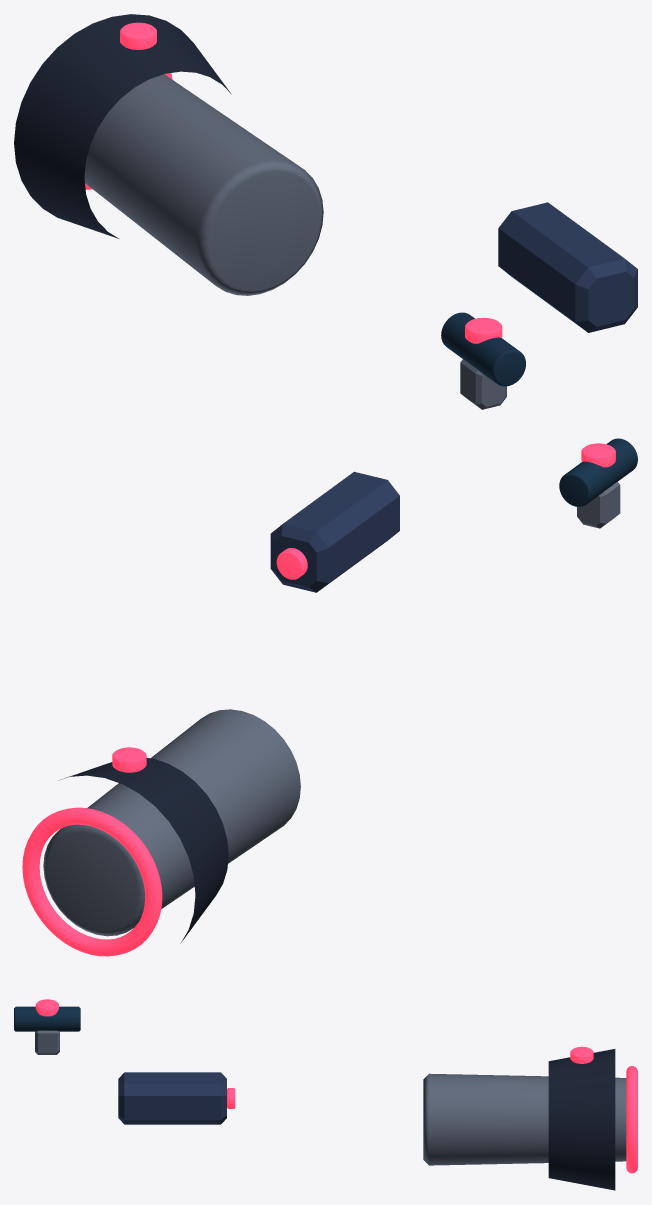
Rendered from tower_filament_optics_s5.glb.
3 views of the same model, one above another, from view 1: azimuth 30°, elevation 25°; view 2: azimuth 150°, elevation 25°; view 3: azimuth 270°, elevation 25° (orthographic). The views are drawn at different scales.
Visible parts, largest first — view 1: filament_tube_ext, filament_lens_hood, filament_rangefinder, filament_sight_glass, filament_sight_mount, filament_up_optics_l3_stud, filament_up_optics_l2_stud; view 2: filament_tube_ext, filament_rangefinder, filament_lens_hood, filament_tube_ext_ring, filament_sight_glass, filament_sight_mount, filament_rangefinder_lens, filament_up_optics_l3_stud; view 3: filament_tube_ext, filament_lens_hood, filament_rangefinder, filament_sight_glass, filament_tube_ext_ring, filament_sight_mount, filament_up_optics_l3_stud, filament_up_optics_l2_stud.
Boxes of the visible parts, x1=… form: filament_tube_ext: x1=84, y1=74, x2=323, y2=295; filament_lens_hood: x1=14, y1=14, x2=231, y2=238; filament_rangefinder: x1=498, y1=202, x2=637, y2=332; filament_sight_glass: x1=441, y1=312, x2=525, y2=386; filament_sight_mount: x1=460, y1=359, x2=506, y2=409; filament_up_optics_l3_stud: x1=120, y1=22, x2=156, y2=49; filament_up_optics_l2_stud: x1=465, y1=317, x2=502, y2=343; filament_tube_ext: x1=43, y1=709, x2=300, y2=936; filament_rangefinder: x1=270, y1=471, x2=399, y2=592; filament_lens_hood: x1=59, y1=758, x2=228, y2=943; filament_tube_ext_ring: x1=22, y1=807, x2=162, y2=956; filament_sight_glass: x1=559, y1=438, x2=637, y2=506; filament_sight_mount: x1=577, y1=481, x2=620, y2=528; filament_rangefinder_lens: x1=276, y1=548, x2=307, y2=579; filament_up_optics_l3_stud: x1=112, y1=747, x2=146, y2=772; filament_tube_ext: x1=423, y1=1073, x2=626, y2=1165; filament_lens_hood: x1=548, y1=1049, x2=615, y2=1190; filament_rangefinder: x1=118, y1=1072, x2=226, y2=1124; filament_sight_glass: x1=14, y1=1006, x2=80, y2=1031; filament_tube_ext_ring: x1=626, y1=1066, x2=637, y2=1173; filament_sight_mount: x1=35, y1=1030, x2=59, y2=1054; filament_up_optics_l3_stud: x1=570, y1=1046, x2=593, y2=1063; filament_up_optics_l2_stud: x1=35, y1=999, x2=58, y2=1016.
Size of the model in its own units: 0.4044 by 0.411 by 1.49.
